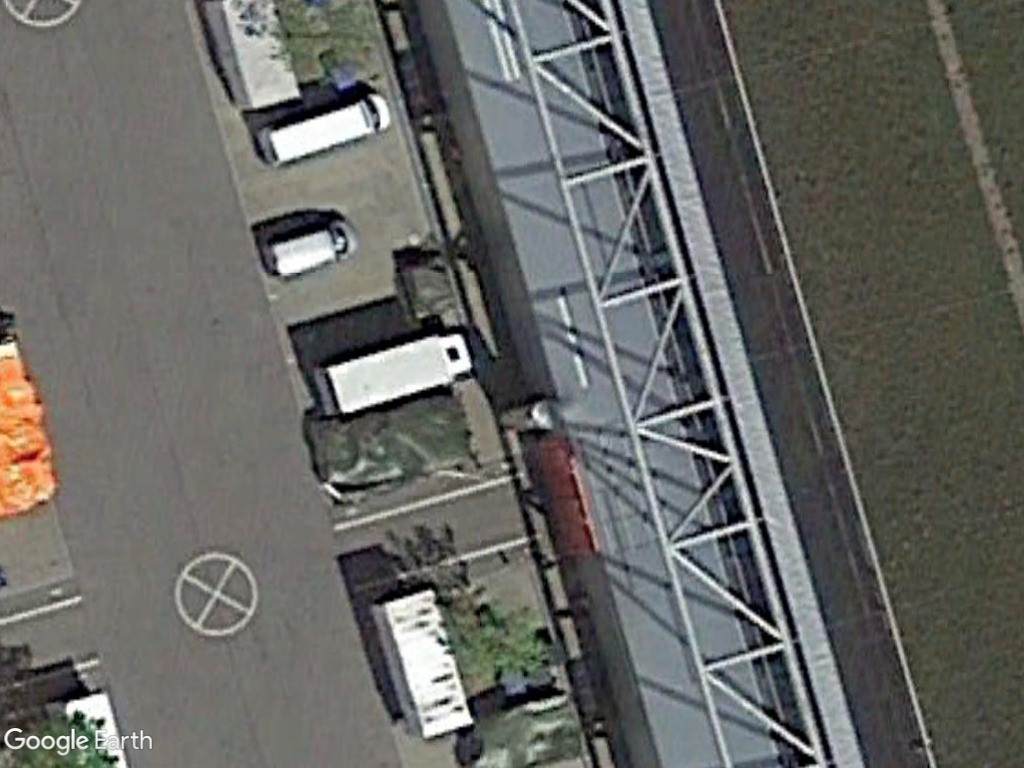truck: (315, 325, 476, 424)
van: (256, 87, 395, 170), (259, 217, 356, 285)
